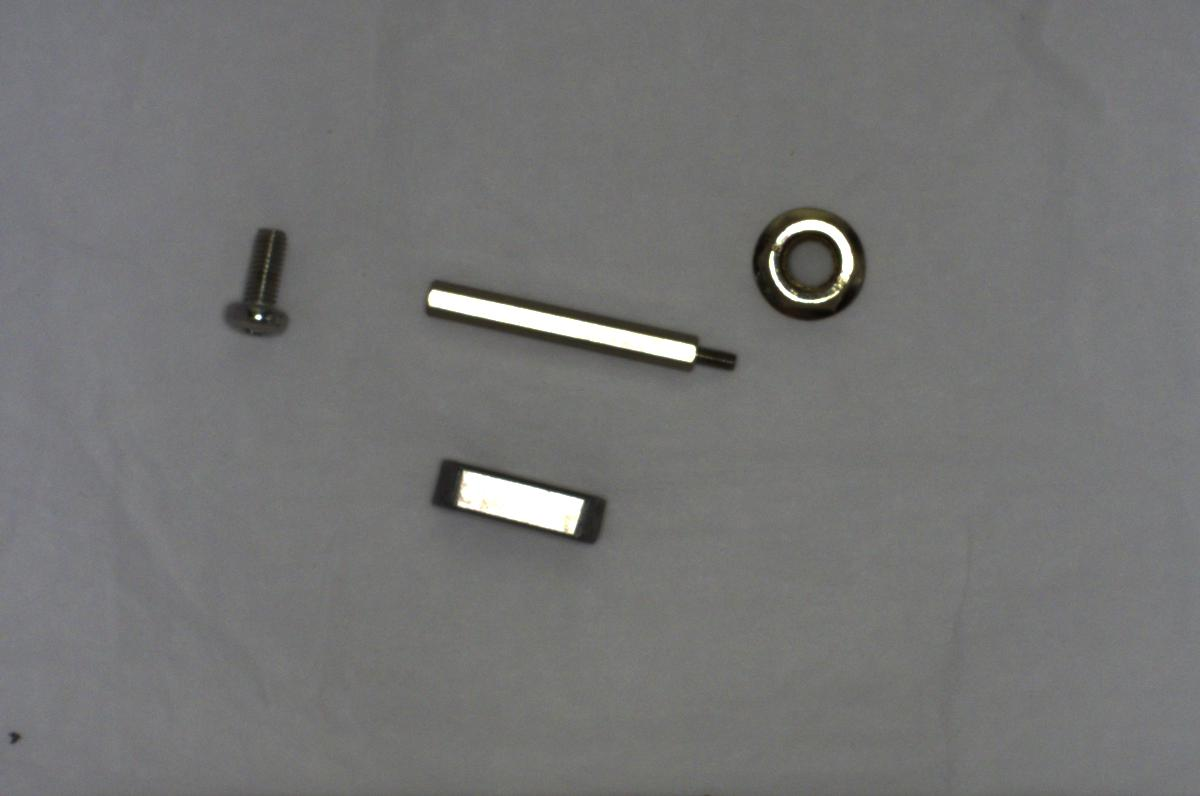Flange nut: (745, 196, 873, 321)
Hexagonal steel column: (414, 270, 744, 389)
Keybar: (426, 450, 612, 552)
Round head screw: (214, 221, 298, 345)
